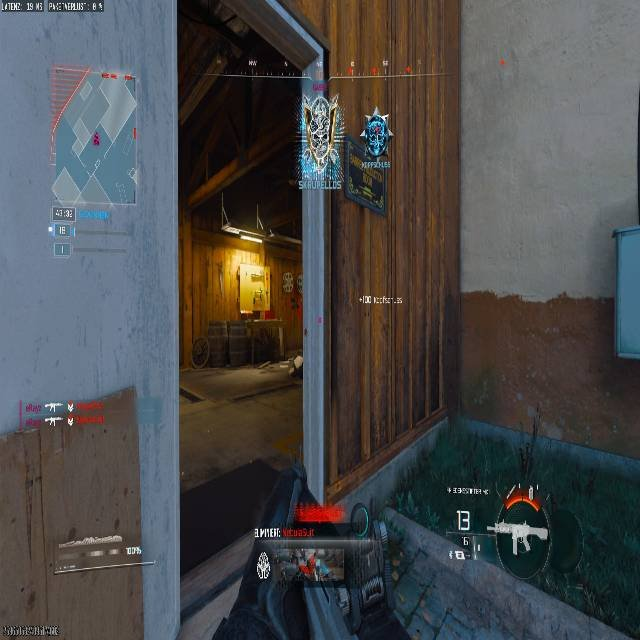player: (357, 109, 391, 162)
